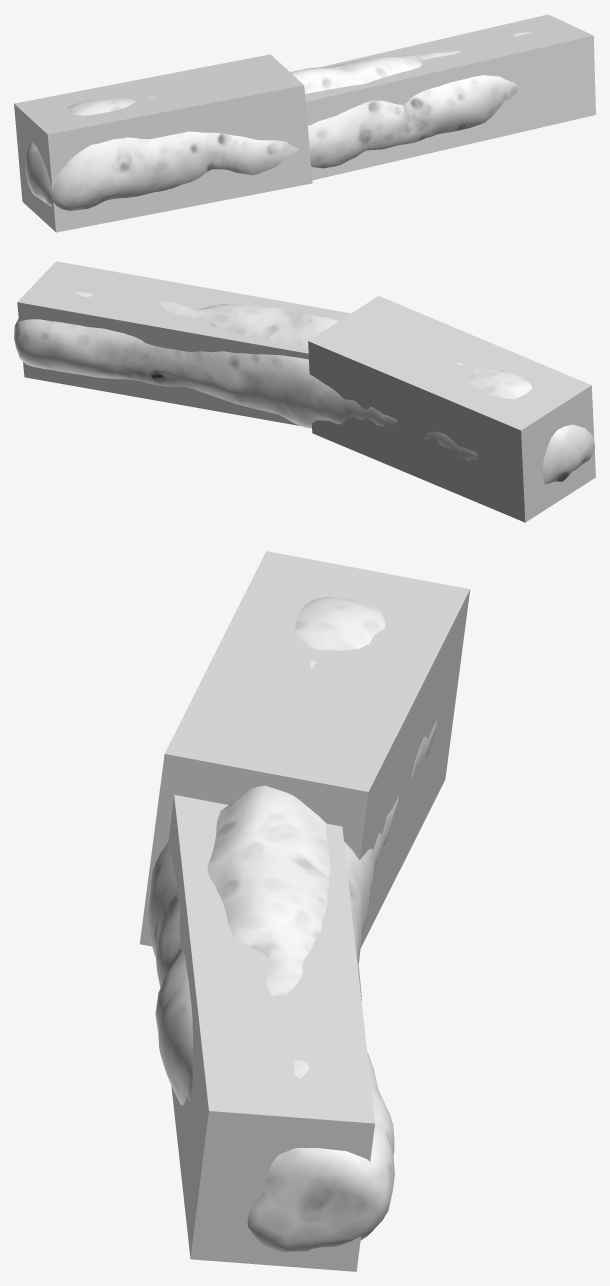
Rendered from Coral_5.glb.
3 renders of one model, top to bottom at view 1: azimuth 30°, elevation 25°; view 2: azimuth 150°, elevation 25°; view 3: azimuth 270°, elevation 25°, orthographic. The views are drawn at different scales.
Parts seen in each view (by area): view 1: Cube.014, A03612_Koralle5.001, Cube.013; view 2: Cube.014, A03612_Koralle5.001, Cube.013; view 3: Cube.014, Cube.013, A03612_Koralle5.001.
Part boxes in pixels (x1,y1,x2,y2): Cube.014: (14, 54, 312, 232); A03612_Koralle5.001: (25, 32, 530, 210); Cube.013: (305, 14, 595, 180); Cube.014: (308, 296, 595, 522); A03612_Koralle5.001: (14, 291, 594, 484); Cube.013: (17, 261, 350, 425); Cube.014: (139, 551, 470, 947); Cube.013: (168, 794, 374, 1271); A03612_Koralle5.001: (148, 597, 436, 1252).
Bounding box in the file's own units: 0.5906 × 0.1225 × 0.158.
Materials: 1 (1 with a texture image).
